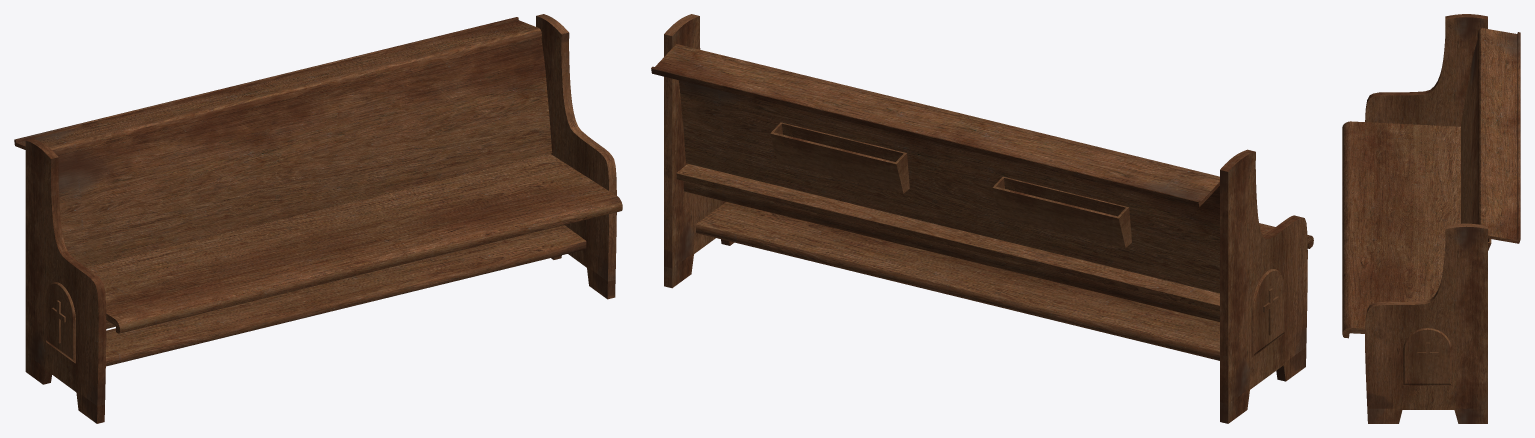
The model's file is Bench.FBX.
3 views of the same model, side by side, from view 1: azimuth 30°, elevation 25°; view 2: azimuth 150°, elevation 25°; view 3: azimuth 270°, elevation 25° (orthographic). The views are drawn at different scales.
Visible parts, largest first — view 1: Bench; view 2: Bench; view 3: Bench.
Boxes of the visible parts, box(x1,y1,x2,y2) form: Bench: box(14, 14, 622, 423); Bench: box(651, 14, 1313, 423); Bench: box(1342, 14, 1520, 423).
Bounding box in the file's own units: 233 × 99.05 × 81.16.
1 material, 1 textured.
